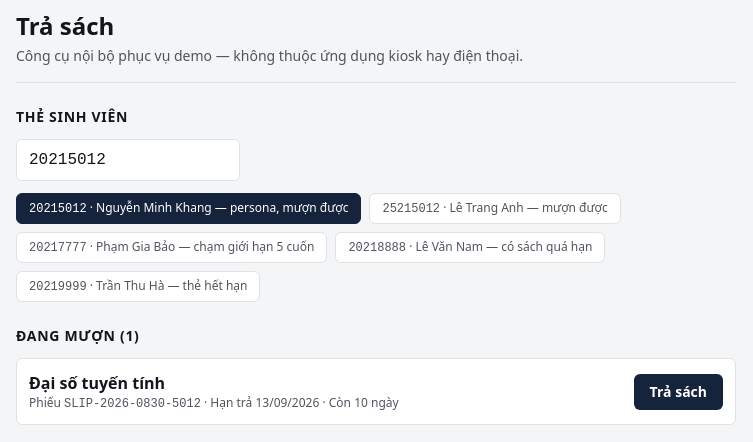
Test: Admin return page › confirms the return in words, not just by the row disappearing
Click the button "Trả sách". click: click(678, 392)
box: x1=634 y1=374 x2=723 y2=410
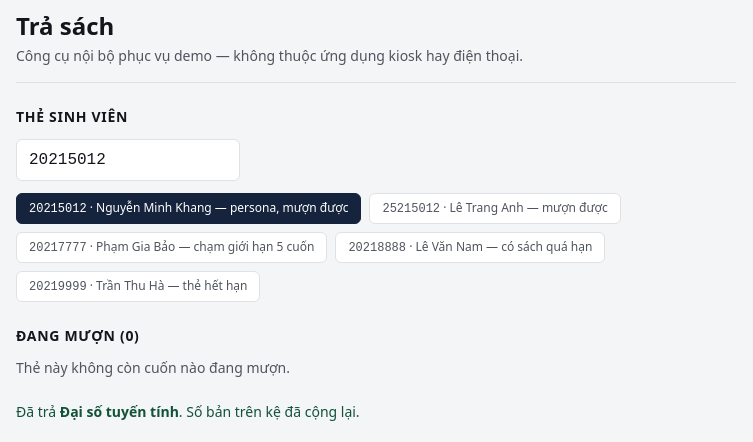
Expected: the message shows "Đại số tuyến tính", x1=60 y1=402 x2=179 y2=421
